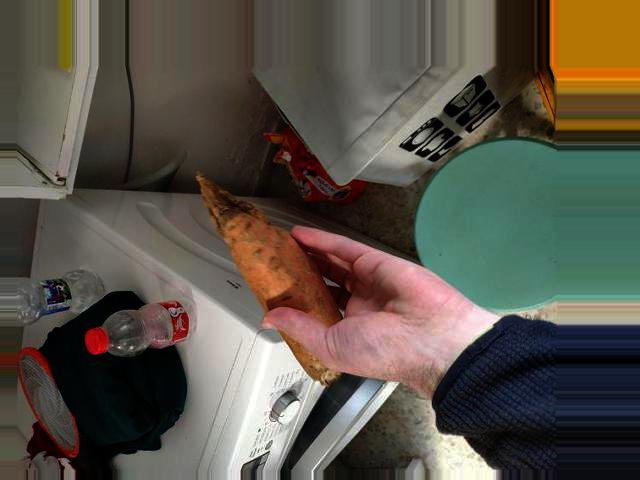sweet_potato: (247, 243, 362, 375)
